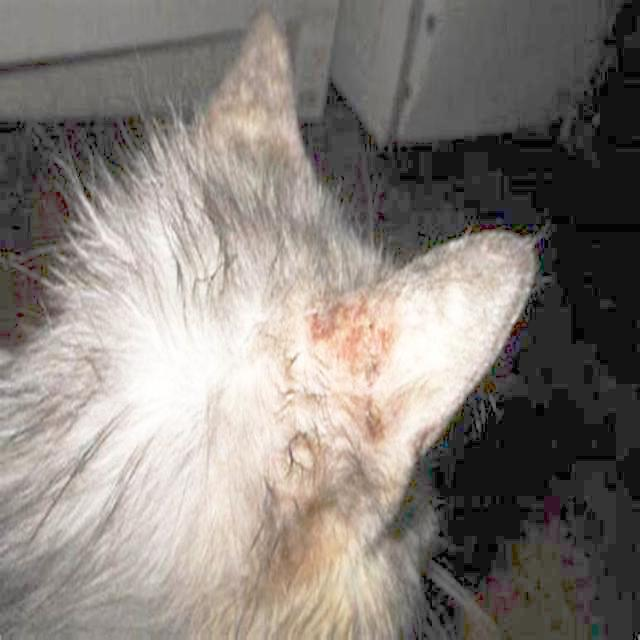ringworm: (302, 299, 394, 445)
